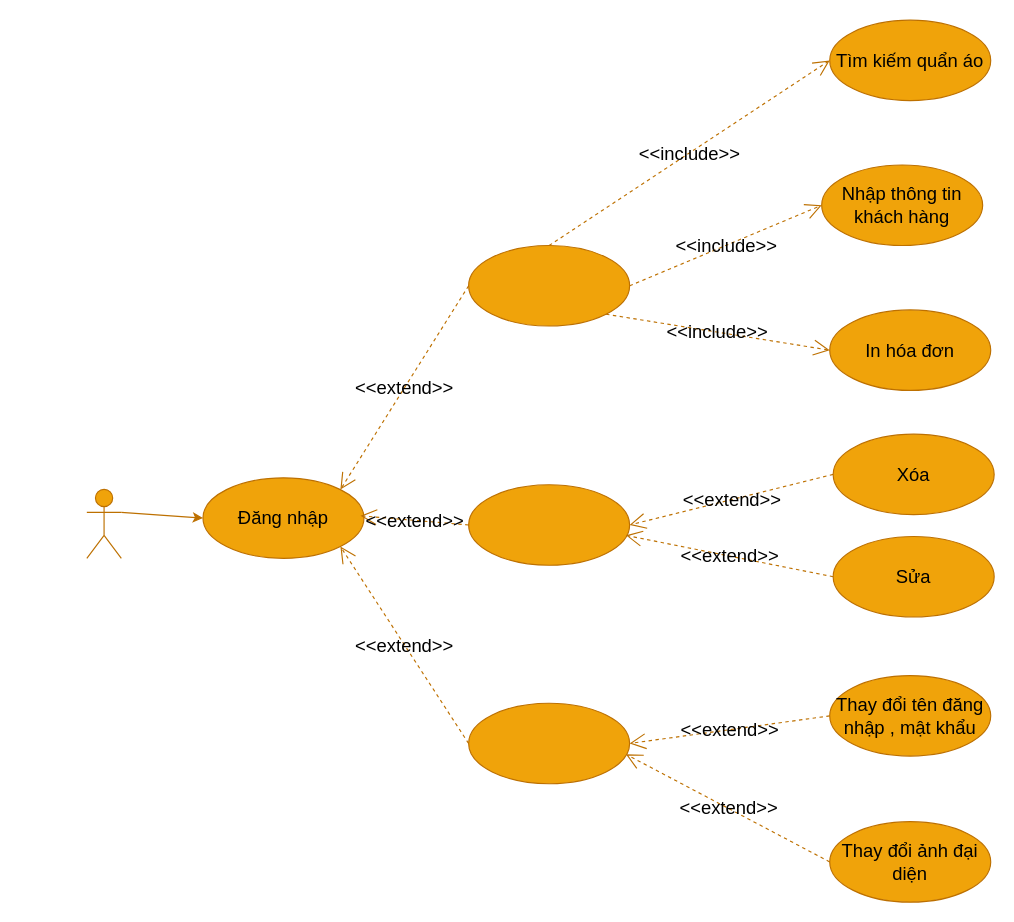
This 1014x922 diagram has some shape labels left out. Each missing label, with the box of its shape:
Cập nhật hóa đơn: (467, 484, 630, 565)
Cập nhật thông tin tài khoản: (467, 702, 630, 784)
Lập hóa đơn: (467, 244, 630, 326)
Nhân Viên bán hàng: (86, 488, 121, 558)
